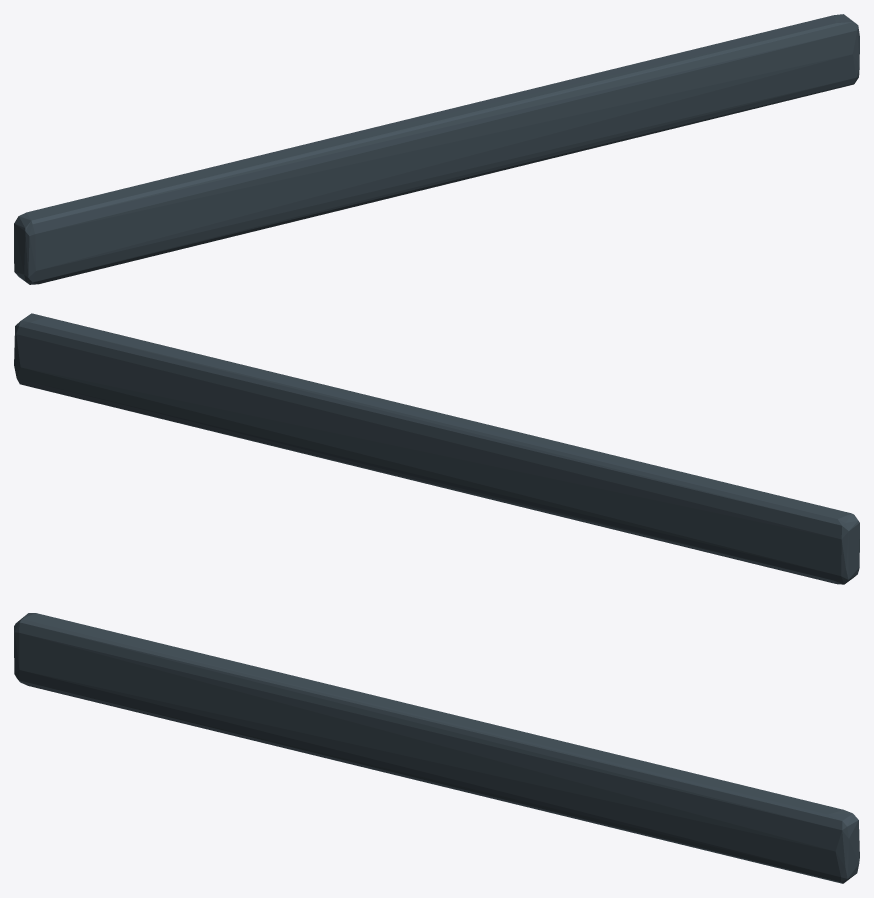
File: KnifeHolder.fbx
The picture shows the model from 3 angles, top to bottom: view 1: azimuth 30°, elevation 25°; view 2: azimuth 150°, elevation 25°; view 3: azimuth 330°, elevation 25°; orthographic projection.
Parts seen in each view (by area): view 1: KnifeHolderLowPoly; view 2: KnifeHolderLowPoly; view 3: KnifeHolderLowPoly.
Boxes of the visible parts, x1,y1,x2,y2 form: KnifeHolderLowPoly: (14, 14, 859, 284); KnifeHolderLowPoly: (14, 313, 859, 584); KnifeHolderLowPoly: (14, 613, 859, 883).
Bounding box in the file's own units: 39.99 × 3 × 1.39.
